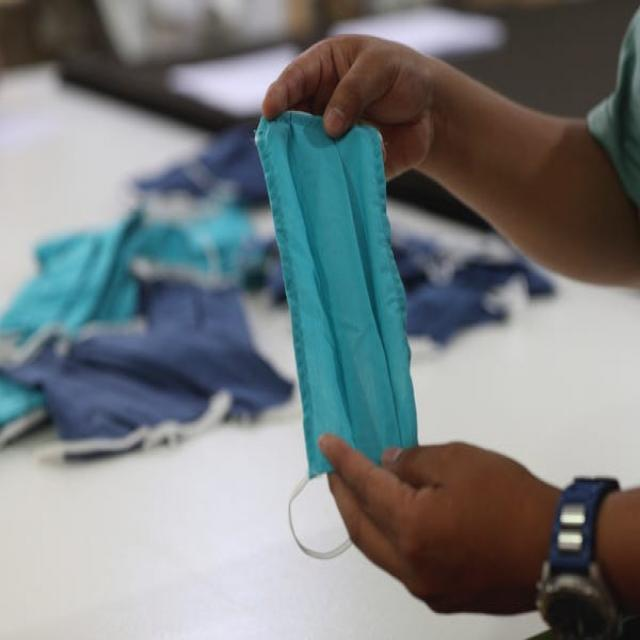face mask: (238, 88, 421, 565)
